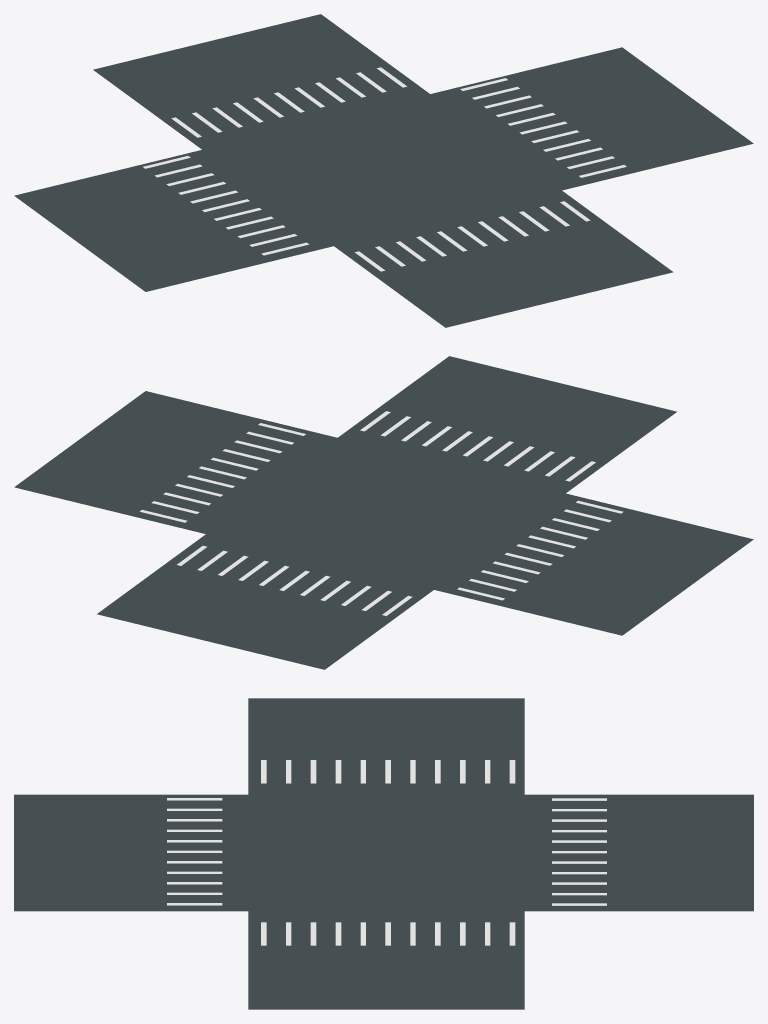
The model's file is pasy.fbx.
3 renders of one model, top to bottom at view 1: azimuth 30°, elevation 25°; view 2: azimuth 150°, elevation 25°; view 3: azimuth 270°, elevation 25°, orthographic. The views are drawn at different scales.
Visible parts, largest first — view 1: Plane.004; view 2: Plane.004; view 3: Plane.004.
Part boxes in pixels (x1,y1,x2,y2): Plane.004: (14, 14, 753, 327); Plane.004: (14, 356, 753, 669); Plane.004: (14, 698, 753, 1009).
Size of the model in its own units: 4000 by 12.67 by 4017.
